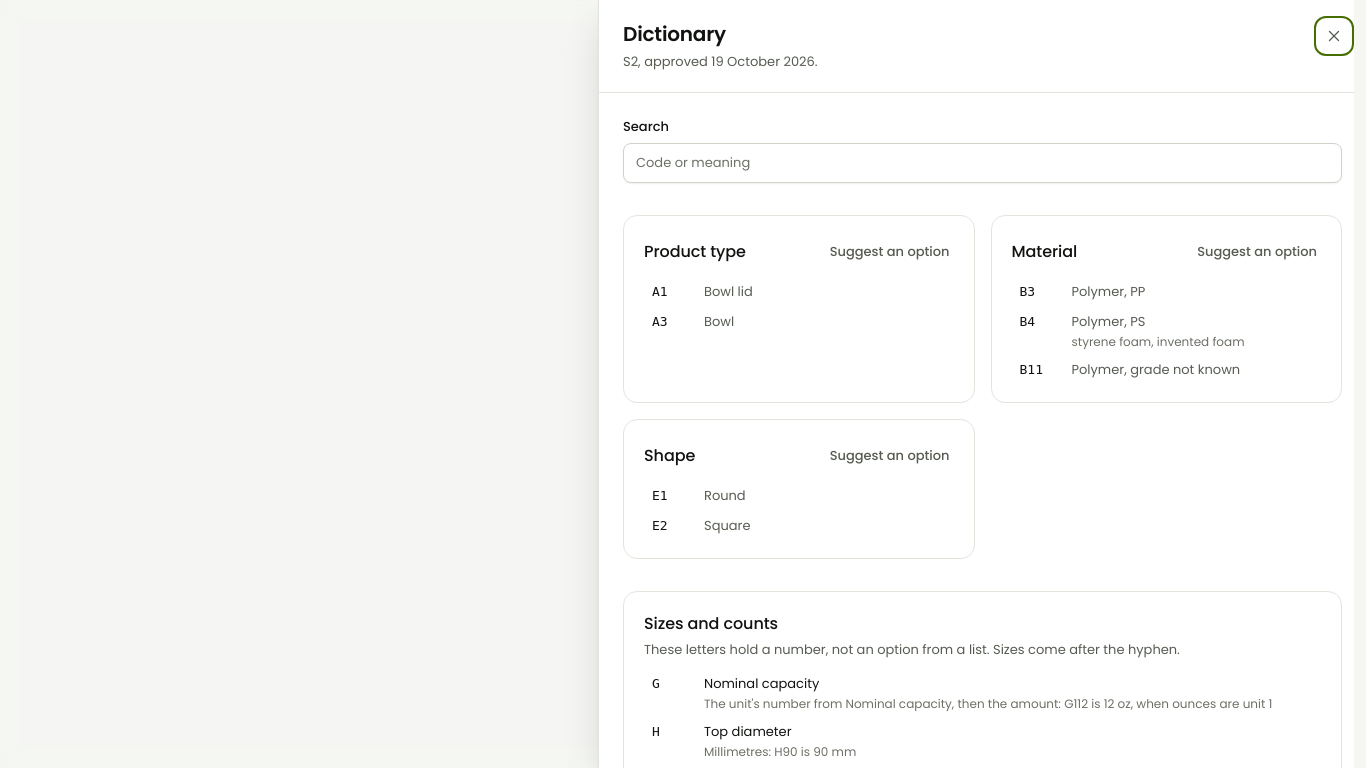
DictionarySheet, suggesting › shows each of the server's problems beside its field, and one about the number above the buttons
Click the button with aria-label "Suggest an option for Material": click(1257, 252) [1185,236,1329,268]
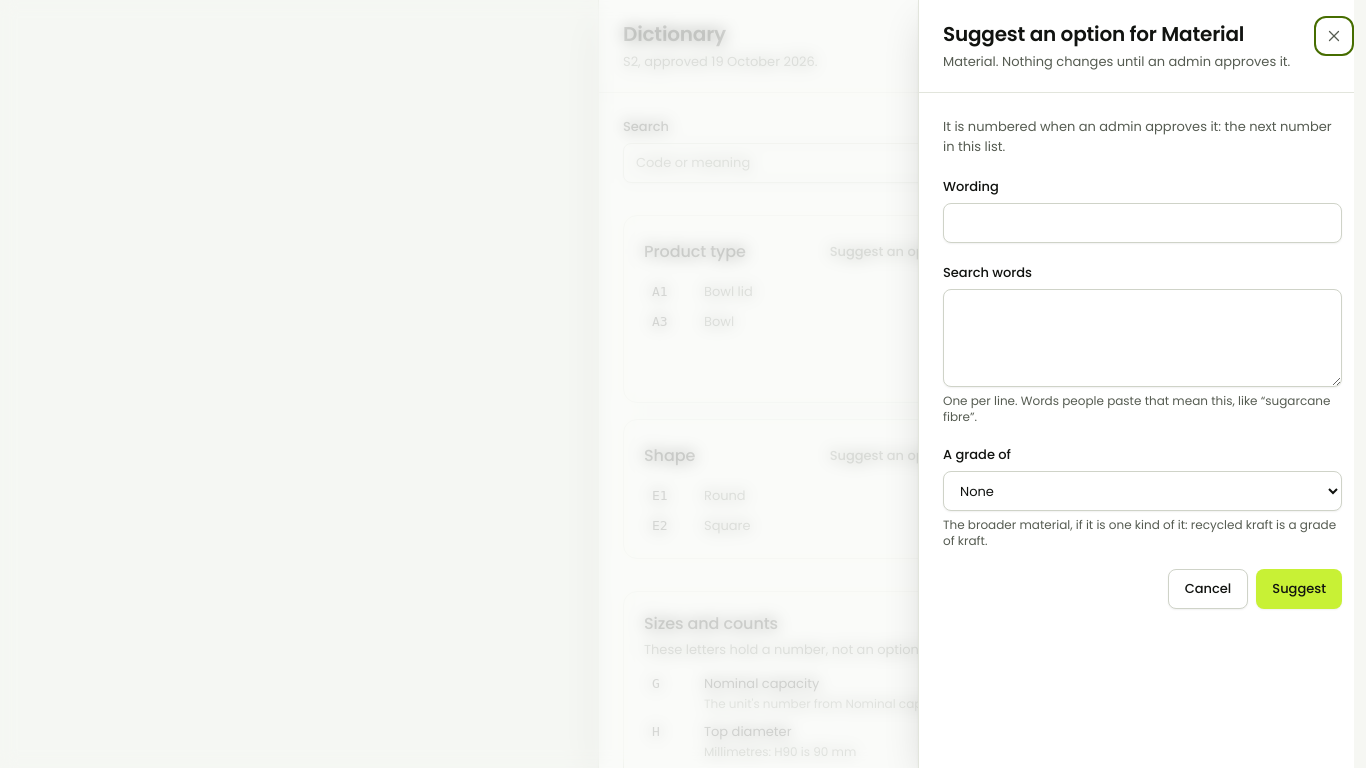
Click the button "Suggest": click(1299, 589) [1256,569,1342,609]
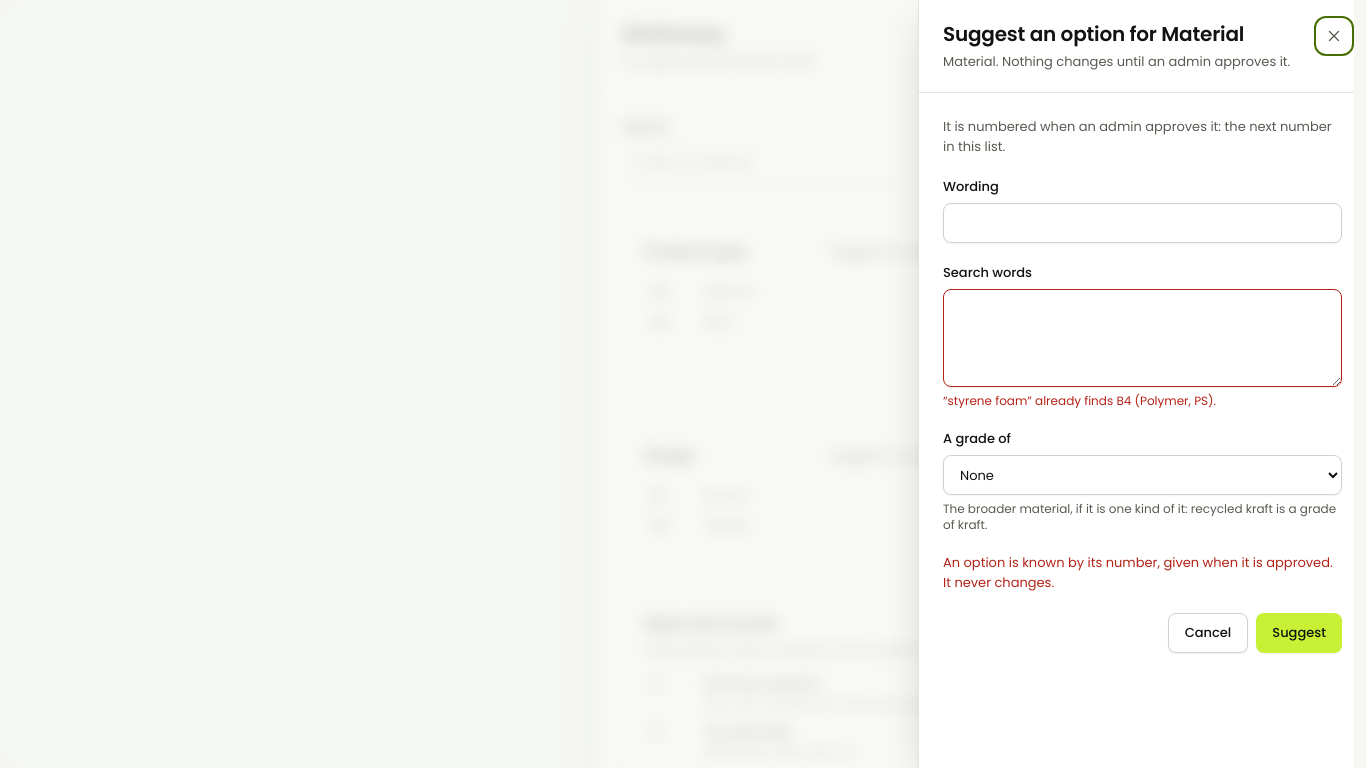
Expected: the text "“styrene foam” already finds B4 (Polymer, PS)." is shown, [943,392,1216,409]
Expected: the message reads "An option is known by its number, given when it is approved. It never changes.", [943,553,1333,592]
